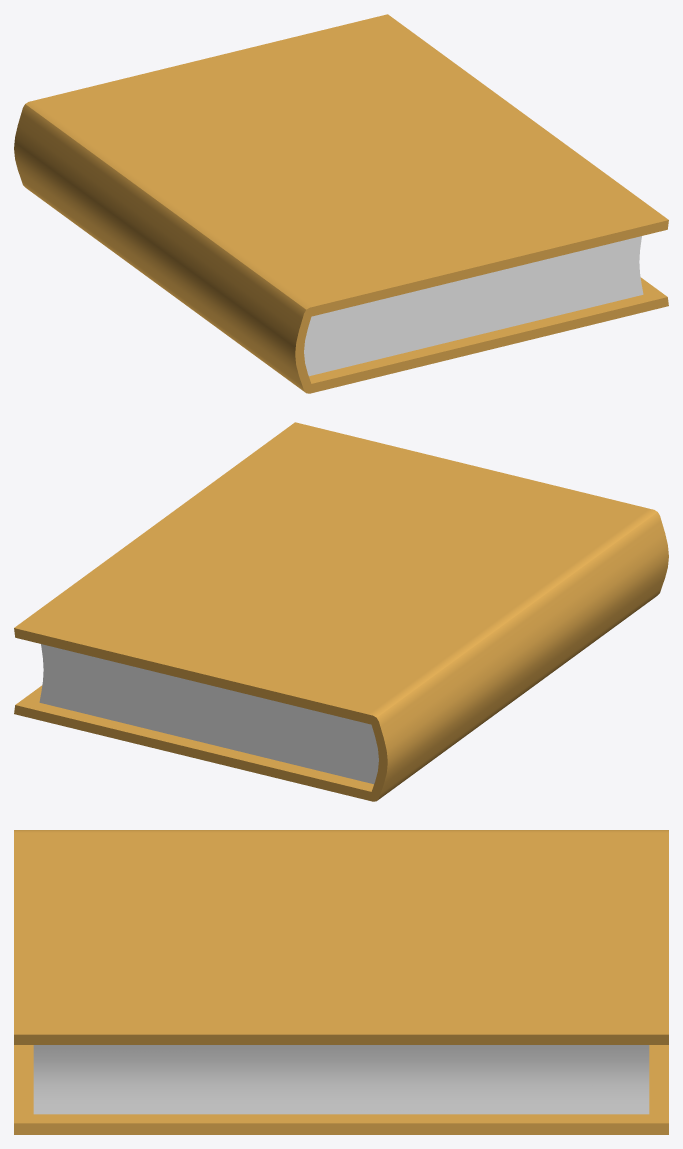
File: book_tutorial.glb
The picture shows the model from 3 angles, top to bottom: view 1: azimuth 30°, elevation 25°; view 2: azimuth 150°, elevation 25°; view 3: azimuth 270°, elevation 25°; orthographic projection. The views are drawn at different scales.
Visible parts, largest first — view 1: Cube; view 2: Cube; view 3: Cube.
Part boxes in pixels (bbox=[...]): Cube: bbox=[14, 14, 668, 393]; Cube: bbox=[14, 422, 668, 801]; Cube: bbox=[14, 830, 668, 1134].
Bounding box in the file's own units: 1.8 × 0.3966 × 2.35.
